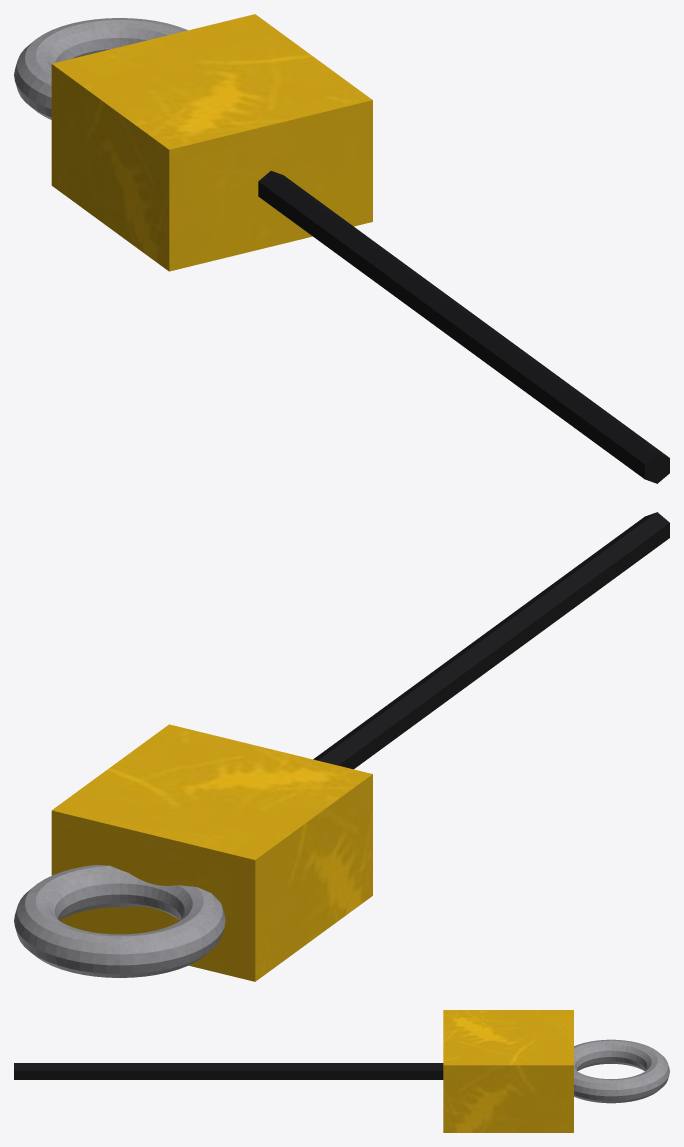
The model's file is crane_hook.glb.
The picture shows the model from 3 angles, top to bottom: view 1: azimuth 30°, elevation 25°; view 2: azimuth 150°, elevation 25°; view 3: azimuth 270°, elevation 25°; orthographic projection. The views are drawn at different scales.
Visible parts, largest first — view 1: crane_hook; view 2: crane_hook; view 3: crane_hook.
Boxes of the visible parts, box(x1,y1,x2,y2) form: crane_hook: box(14, 14, 669, 483); crane_hook: box(14, 512, 669, 981); crane_hook: box(14, 1010, 669, 1132).
Size of the model in its own units: 0.14 by 0.08 by 0.703.
Materials: 3 (2 with a texture image).
